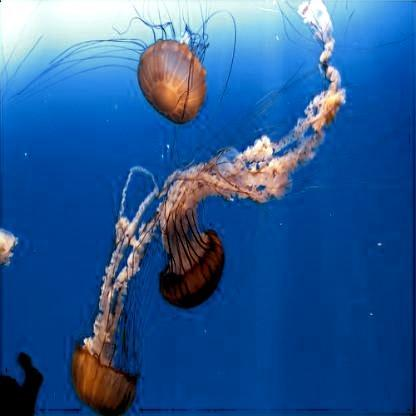Dressed: (161, 150, 343, 308), (81, 215, 139, 411), (137, 29, 207, 124), (1, 225, 18, 268)
